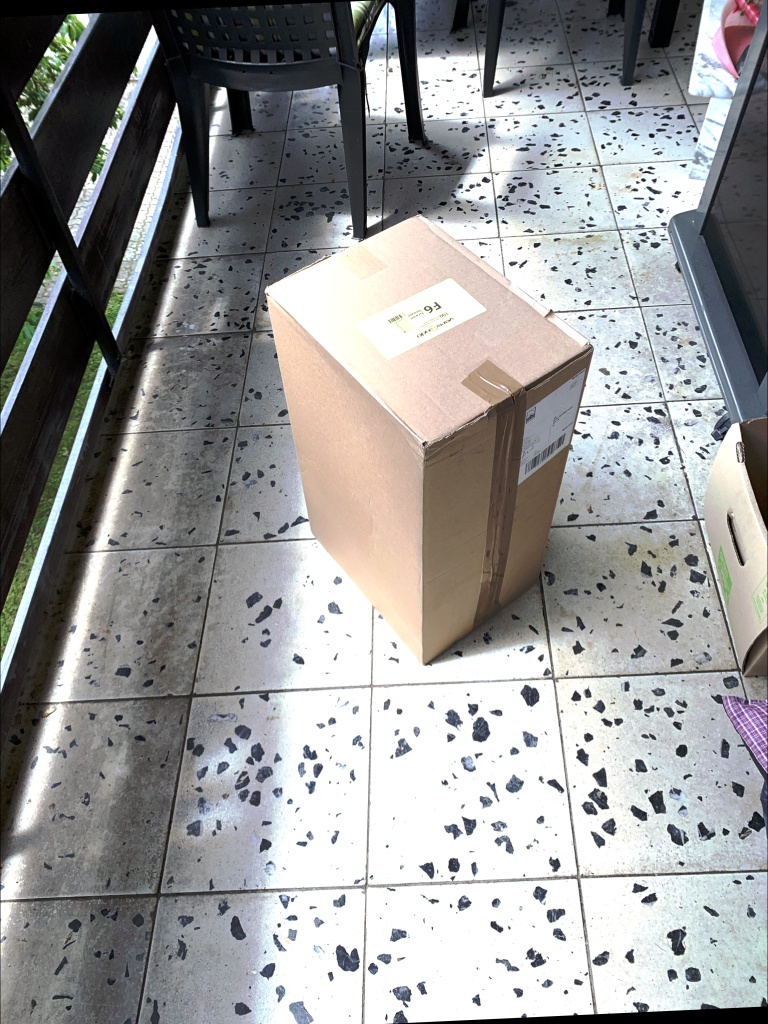good-parcel: (236, 199, 579, 664)
